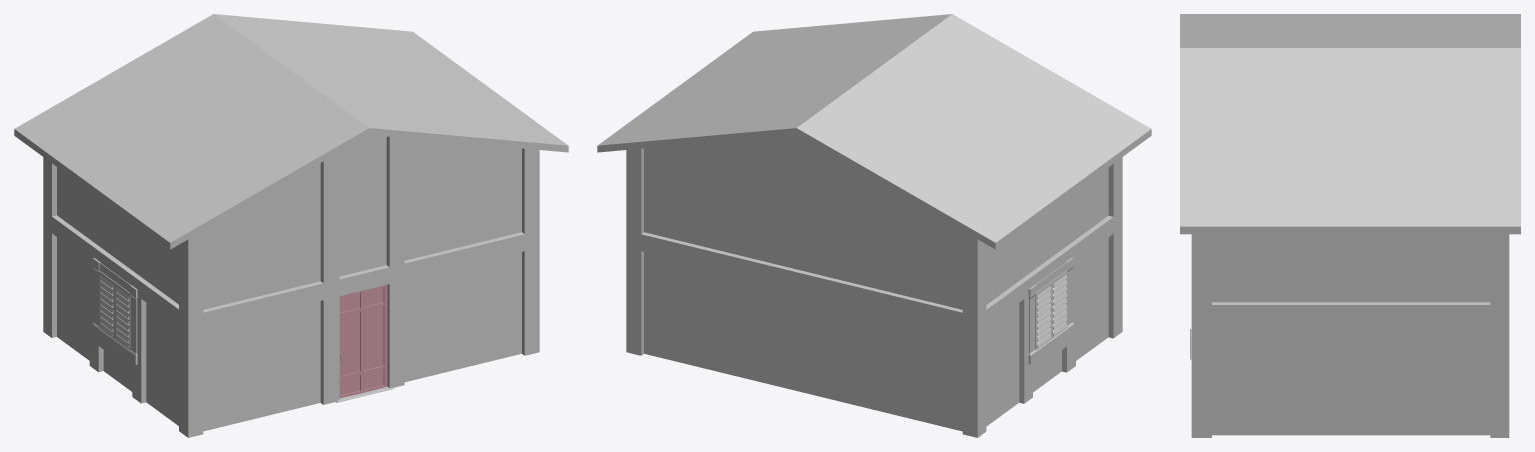
Rendered from Build001.fbx.
3 views of the same model, side by side, from view 1: azimuth 30°, elevation 25°; view 2: azimuth 150°, elevation 25°; view 3: azimuth 270°, elevation 25° (orthographic). The views are drawn at different scales.
Parts seen in each view (by area): view 1: Build001, Build001-m2, build001-Door, build001-windowway, build001-winB, build001-winA; view 2: Build001, Build001-m2, build001-windowway, build001-winB, build001-winA; view 3: Build001-m2, Build001.
Boxes of the visible parts, x1,y1,x2,y2 form: Build001: (43, 135, 539, 437); Build001-m2: (14, 14, 568, 249); build001-Door: (339, 285, 387, 397); build001-windowway: (92, 258, 137, 364); build001-winB: (114, 282, 130, 350); build001-winA: (99, 271, 114, 338); Build001: (626, 135, 1122, 437); Build001-m2: (597, 14, 1151, 249); build001-windowway: (1028, 257, 1073, 364); build001-winB: (1051, 270, 1067, 338); build001-winA: (1035, 282, 1051, 349); Build001-m2: (1180, 14, 1520, 234); Build001: (1191, 234, 1509, 437).
Size of the model in its own units: 1592 by 1036 by 1078.
